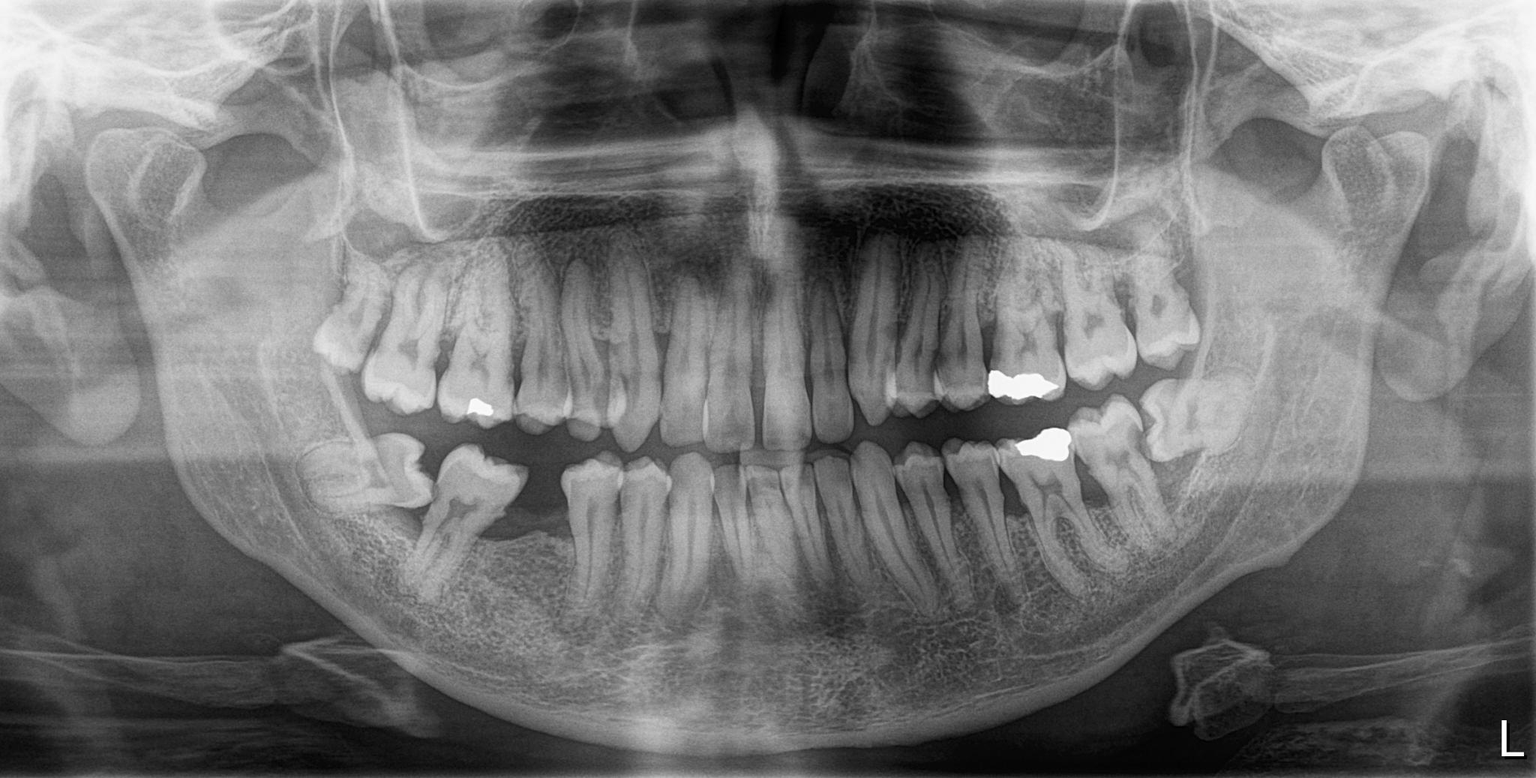Dental Caries: (1129, 405, 1171, 439)
Impacted Third Molar: (296, 426, 436, 519), (1144, 381, 1258, 471)
Missing Tooth: (514, 491, 572, 592)
